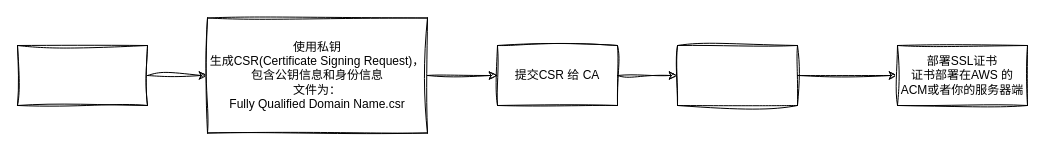
This 1045x150 diagram has some shape labels left out. The shapes that lost their labels are listed below. From the top down, each one's box as (x1, y1, x2, y2) in pixels, then its label:
(16, 44, 148, 106): 在服务端 生成公钥和私钥
(676, 44, 798, 106): CA 签发SSL 证书 文件名为：abcd.p7b
